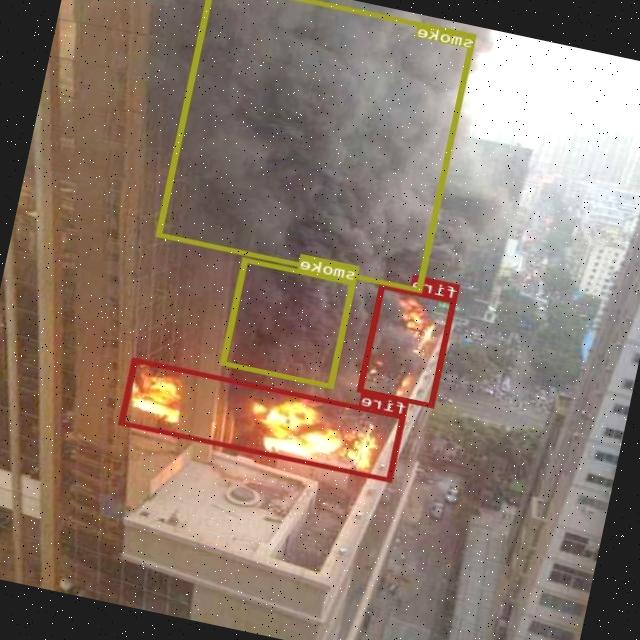fire: (119, 357, 407, 482), (358, 282, 457, 408)
smoke: (156, 0, 477, 292), (221, 256, 357, 388)
